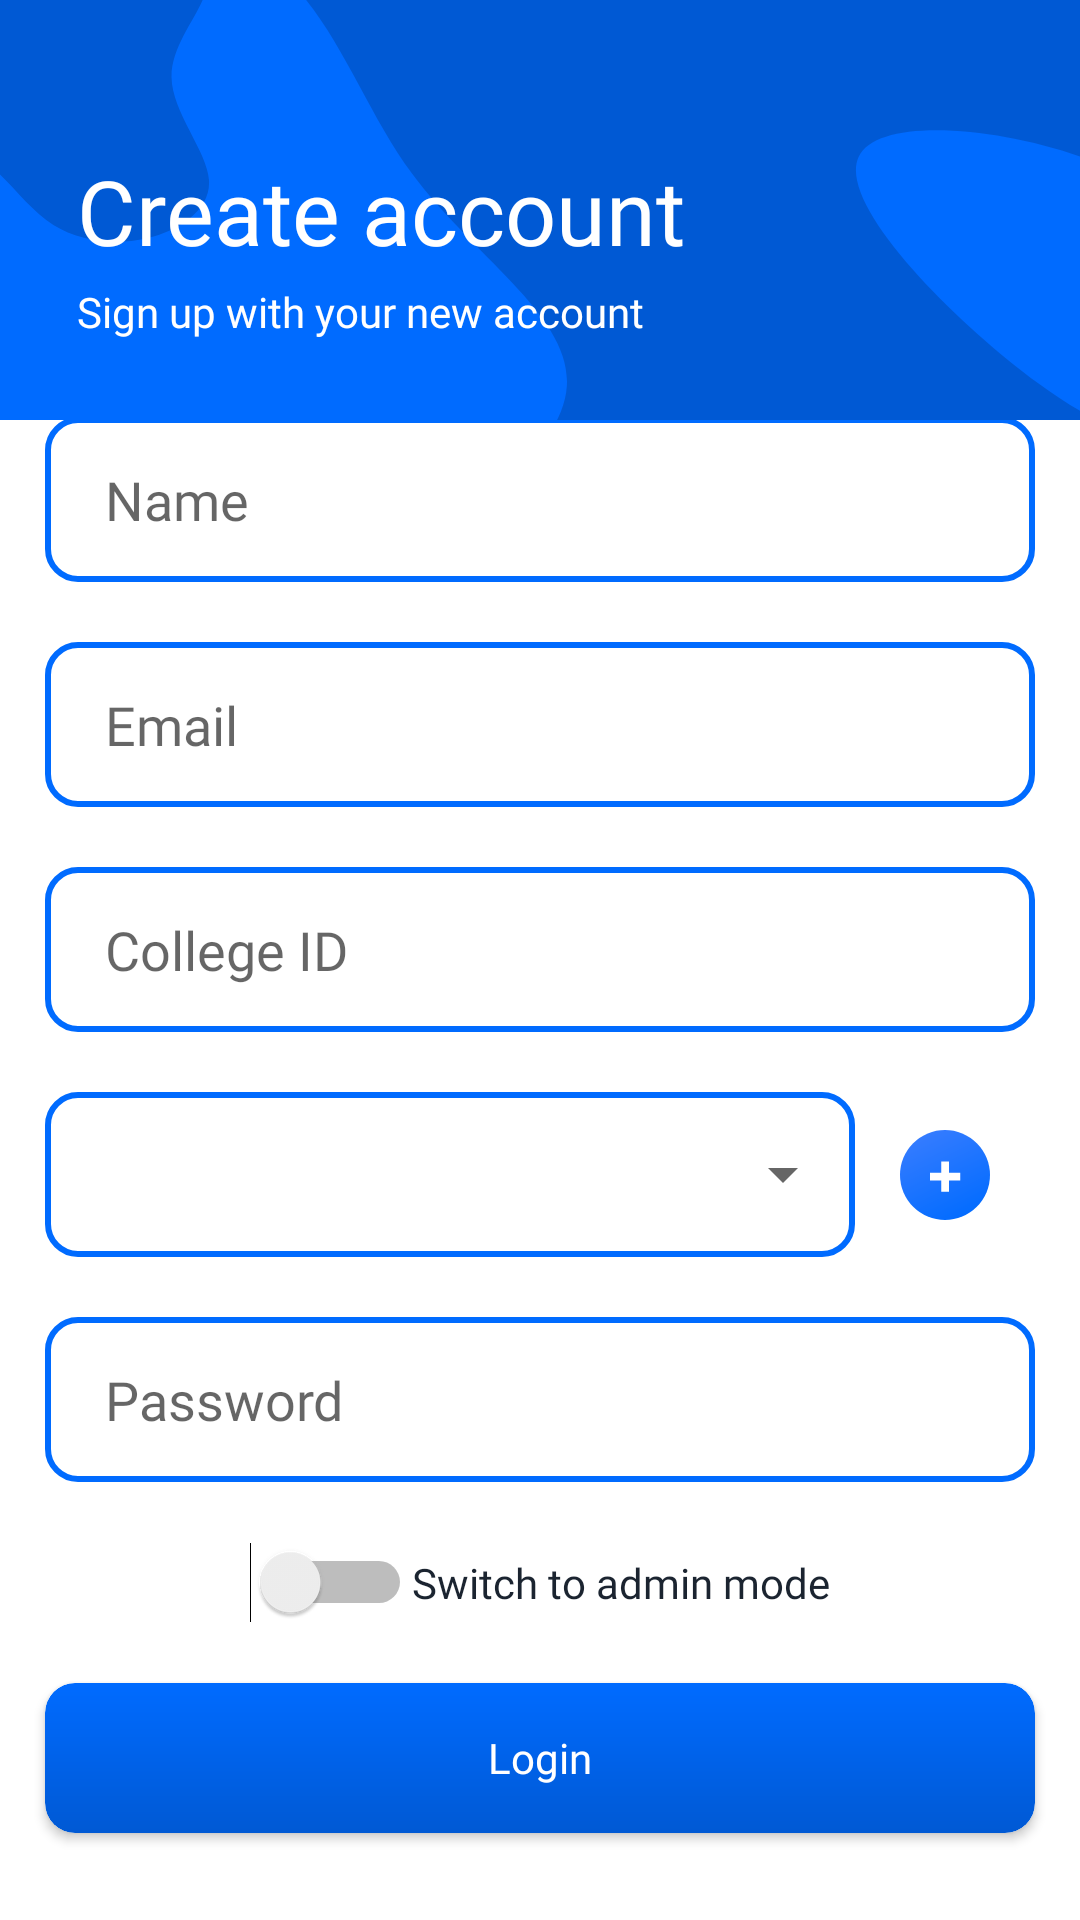

Where icons sit on this 1080 x 1920 app screen, as box=[x1, y1, x2, y2]:
fab: box=[900, 1130, 990, 1220]
